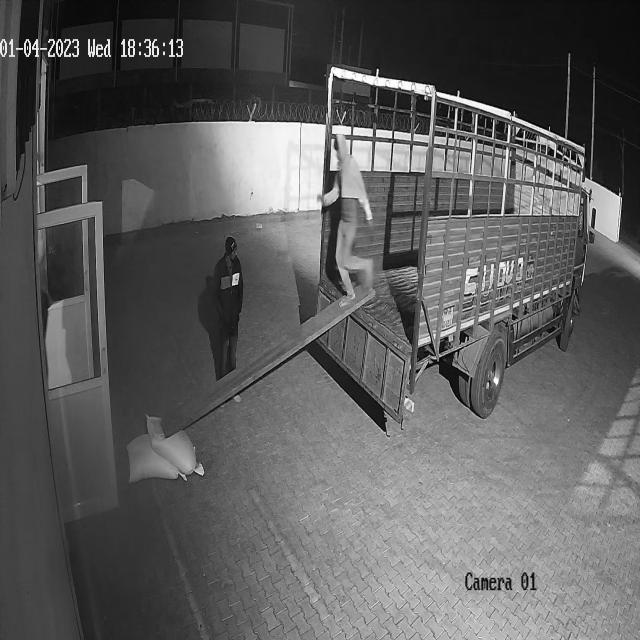sack: (144, 412, 204, 476), (126, 434, 186, 482)
